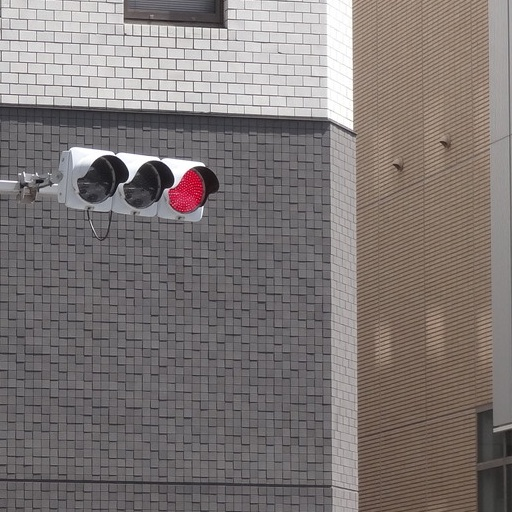Traffic_Signal_Red: (58, 145, 214, 219)
